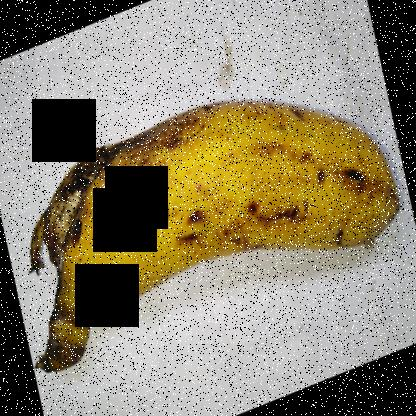ripe: (103, 85, 402, 324)
rotten: (17, 106, 159, 298)
